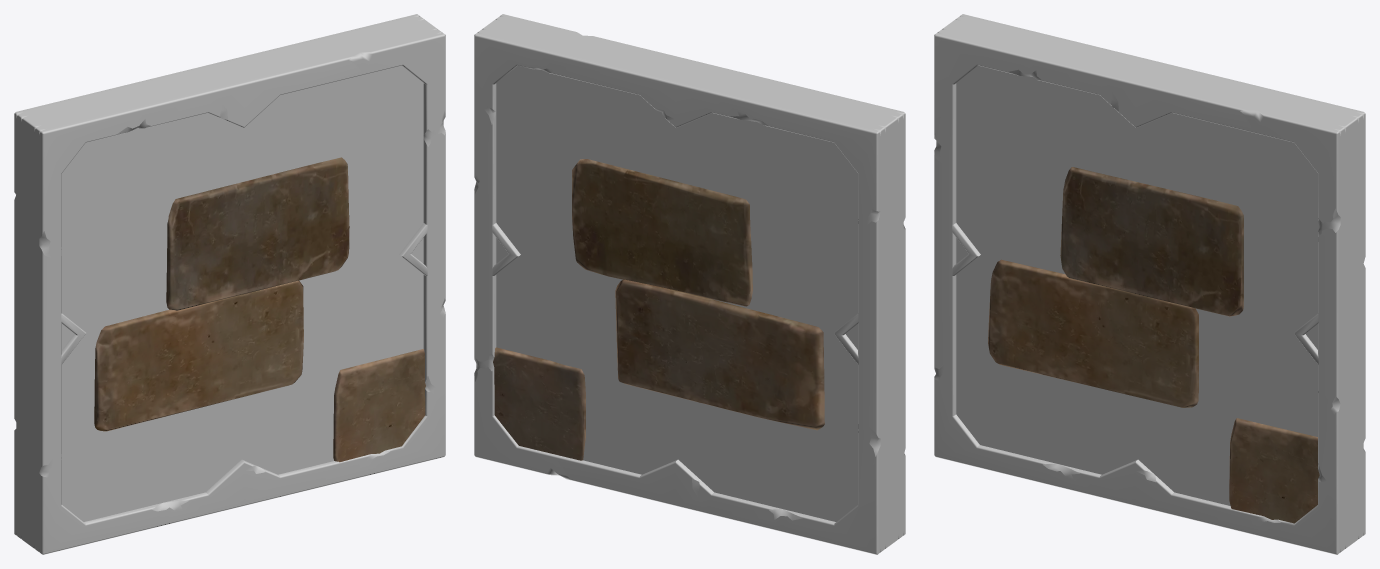
The picture shows the model from 3 angles, left to right: view 1: azimuth 30°, elevation 25°; view 2: azimuth 150°, elevation 25°; view 3: azimuth 330°, elevation 25°; orthographic projection.
Visible parts, largest first — view 1: SM_AgilityWall_4x4_LOD0; view 2: SM_AgilityWall_4x4_LOD0; view 3: SM_AgilityWall_4x4_LOD0.
Boxes of the visible parts, x1,y1,x2,y2 form: SM_AgilityWall_4x4_LOD0: (14, 14, 445, 554); SM_AgilityWall_4x4_LOD0: (474, 14, 905, 554); SM_AgilityWall_4x4_LOD0: (934, 14, 1365, 554).
Bounding box in the file's own units: 4 × 4 × 0.5386.
